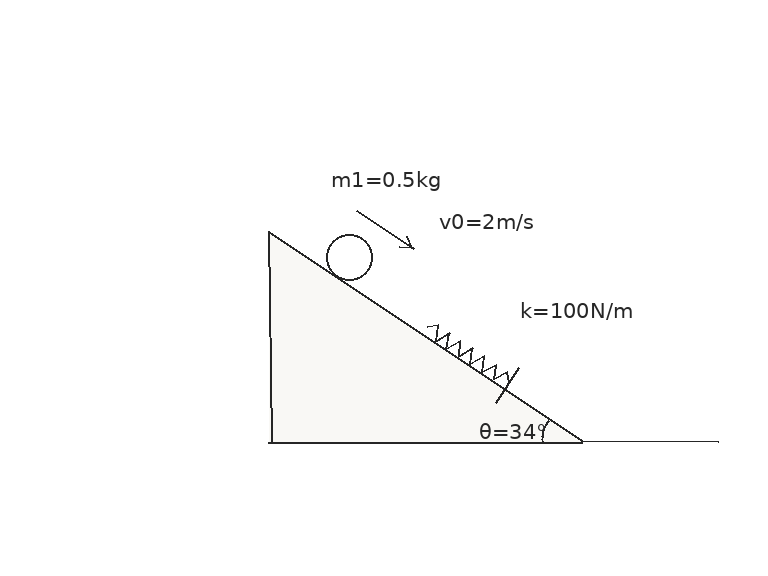ball: (324, 232, 374, 282)
ramp: (267, 229, 584, 444)
spring: (426, 323, 511, 384)
